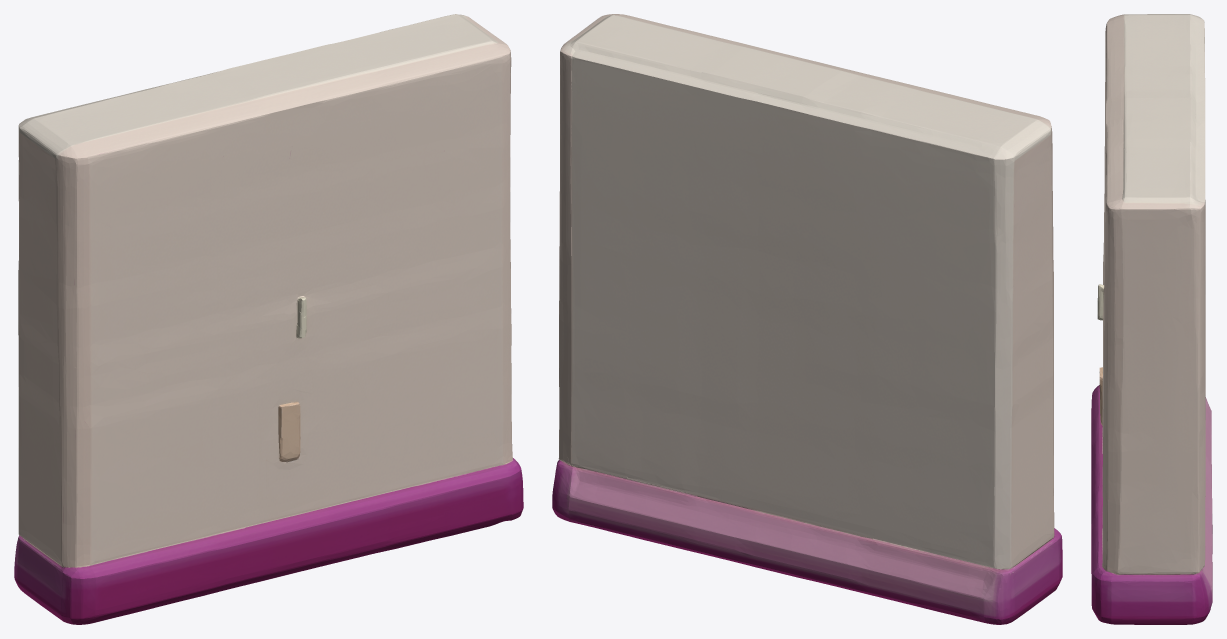
3 renders of one model, left to right at view 1: azimuth 30°, elevation 25°; view 2: azimuth 150°, elevation 25°; view 3: azimuth 270°, elevation 25°, orthographic. The views are drawn at different scales.
Visible parts, largest first — view 1: world; view 2: world; view 3: world.
Boxes of the visible parts, x1,y1,x2,y2 form: world: (14,14,523,624); world: (552,14,1062,624); world: (1091,14,1212,624).
Bounding box in the file's own units: 100 × 98.84 × 25.8.
1 material, 1 textured.
